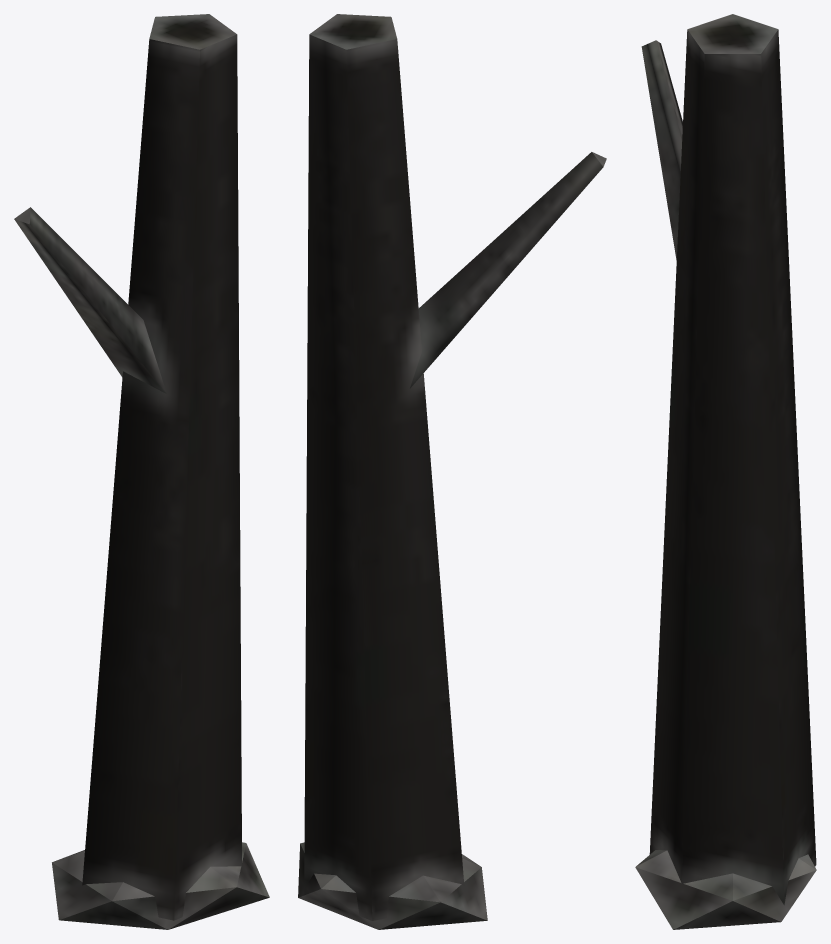
Rendered from charred_tree_1.glb.
3 renders of one model, left to right at view 1: azimuth 30°, elevation 25°; view 2: azimuth 150°, elevation 25°; view 3: azimuth 270°, elevation 25°, orthographic.
Visible parts, largest first — view 1: te_prop_charred_tree_1; view 2: te_prop_charred_tree_1; view 3: te_prop_charred_tree_1.
Part boxes in pixels (bbox=[...]): te_prop_charred_tree_1: bbox=[14, 14, 269, 929]; te_prop_charred_tree_1: bbox=[298, 14, 606, 929]; te_prop_charred_tree_1: bbox=[635, 14, 816, 929].
Size of the model in its own units: 0.0784 by 0.2405 by 0.0455.
Materials: 1 (1 with a texture image).
